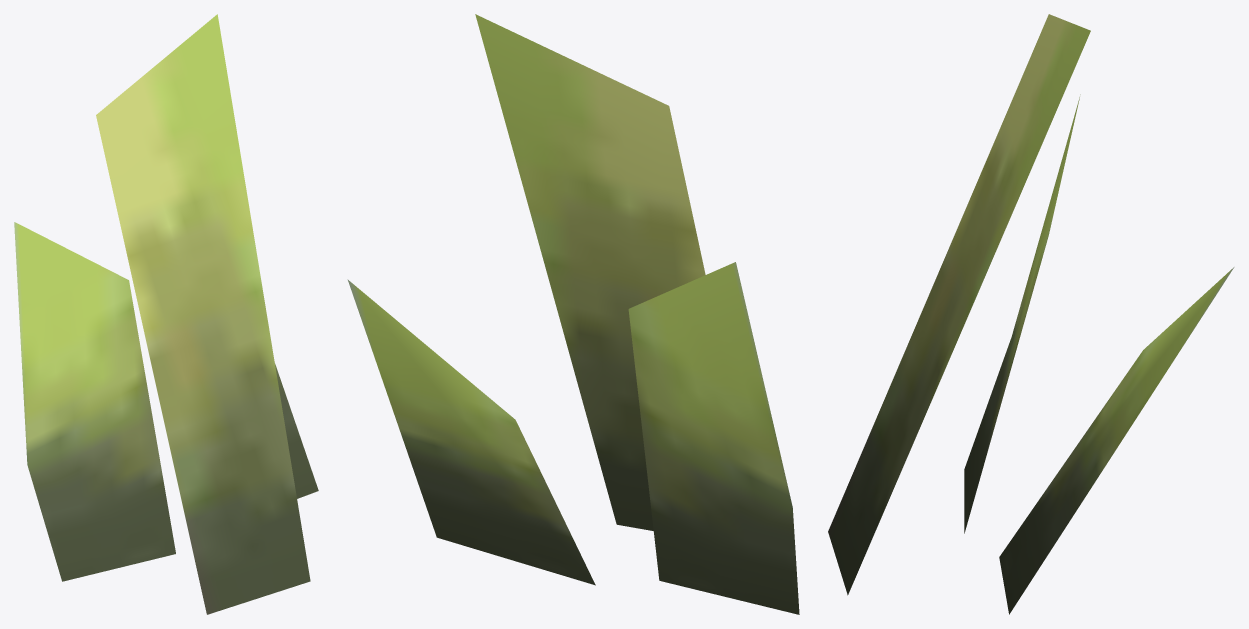
Rendered from fg_grassB.dae.
3 renders of one model, left to right at view 1: azimuth 30°, elevation 25°; view 2: azimuth 150°, elevation 25°; view 3: azimuth 270°, elevation 25°, orthographic. The views are drawn at different scales.
Parts seen in each view (by area): view 1: fg_grassB; view 2: fg_grassB; view 3: fg_grassB.
Boxes of the visible parts, x1,y1,x2,y2 form: fg_grassB: [14, 14, 318, 614]; fg_grassB: [347, 14, 799, 614]; fg_grassB: [828, 14, 1234, 614].
Size of the model in its own units: 13.26 by 21.31 by 13.76.
1 material, 1 textured.
